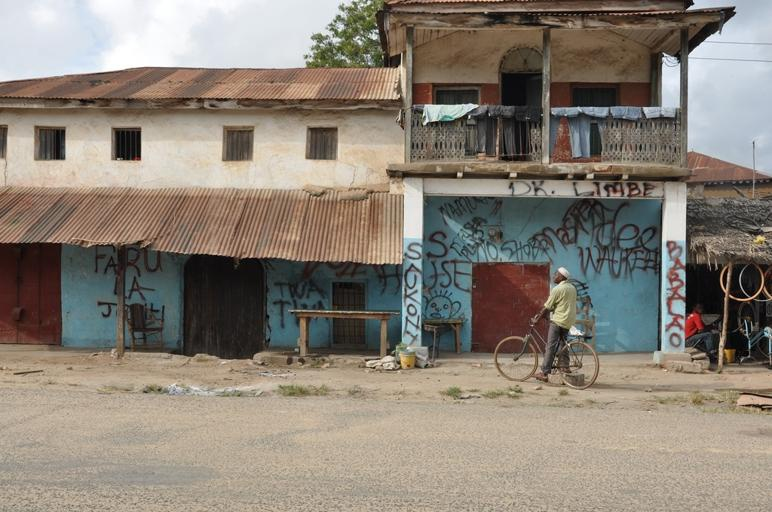non-vehicle: (493, 304, 599, 391), (731, 300, 771, 370)
